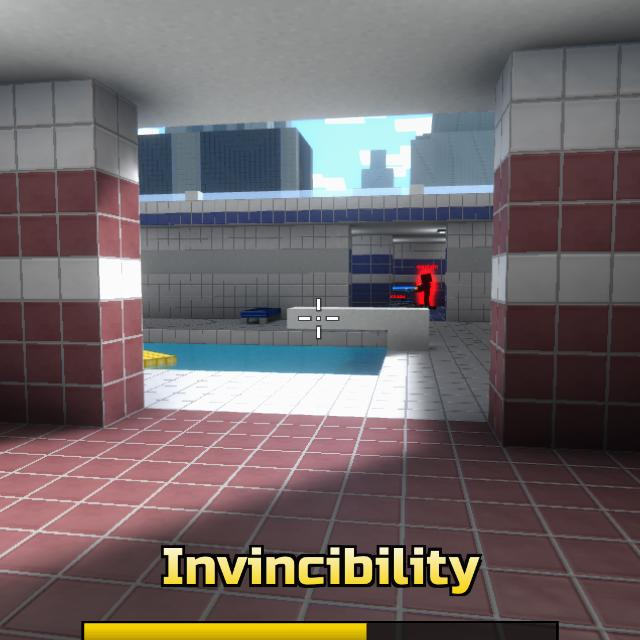Enemy: (415, 273, 433, 305)
